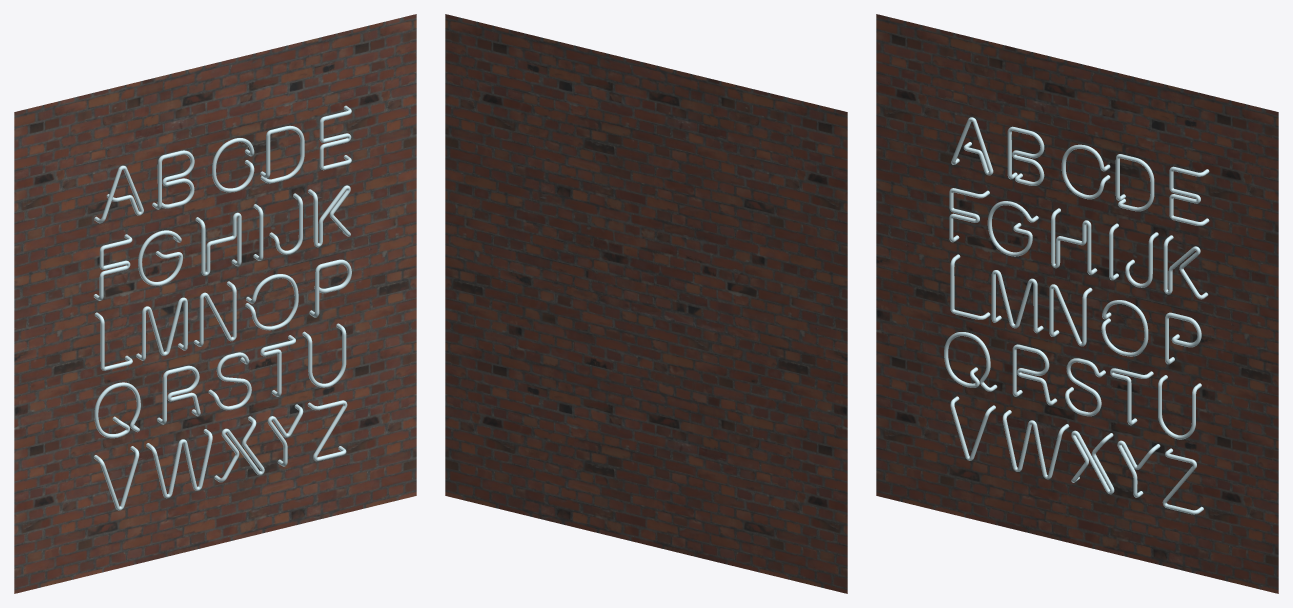
Rendered from neon_letters.glb.
3 renders of one model, left to right at view 1: azimuth 30°, elevation 25°; view 2: azimuth 150°, elevation 25°; view 3: azimuth 330°, elevation 25°, orthographic.
Parts seen in each view (by area): view 1: g (×24); view 2: g; view 3: g (×24).
Part boxes in pixels (x1,y1,x2,y2): g (×24): (14,14,416,593); g: (445,14,847,593); g (×24): (876,14,1278,593).
Bounding box in the file's own units: 1.75 × 2 × 0.0557.
Materials: 1 (1 with a texture image).
